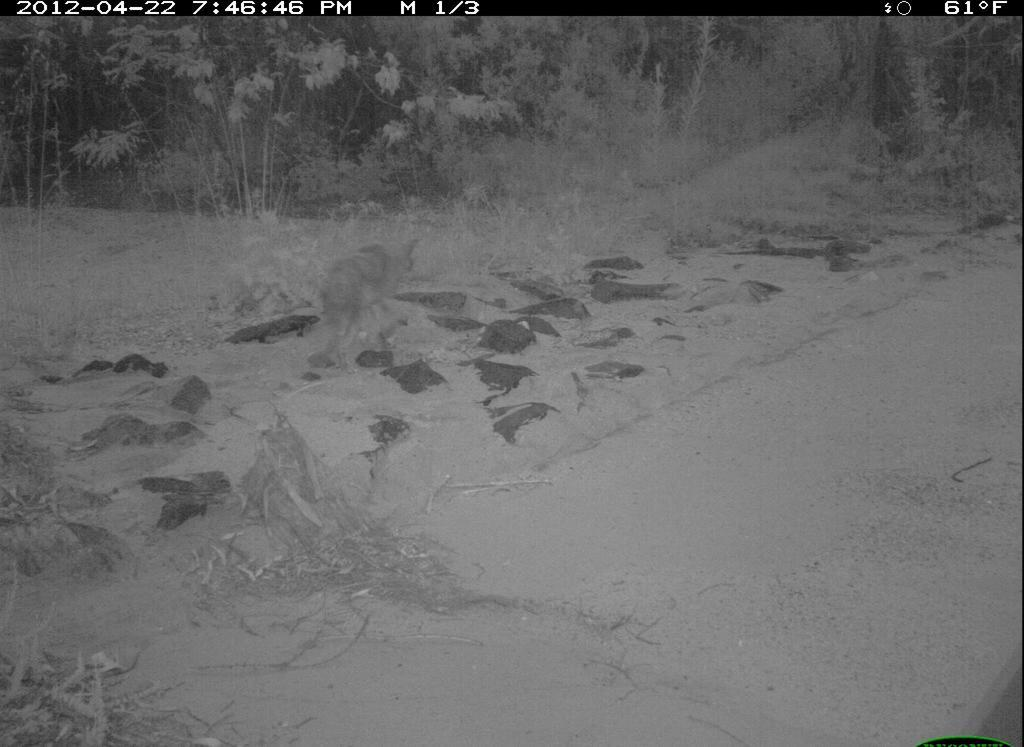coyote: (305, 230, 428, 376)
